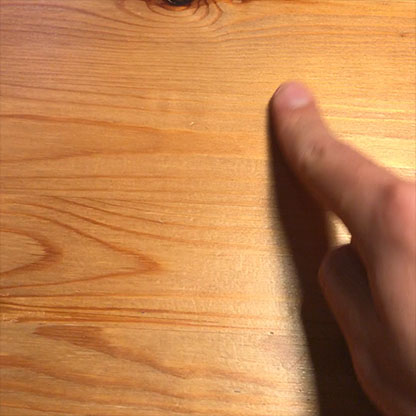fingertip: (272, 73, 319, 121)
